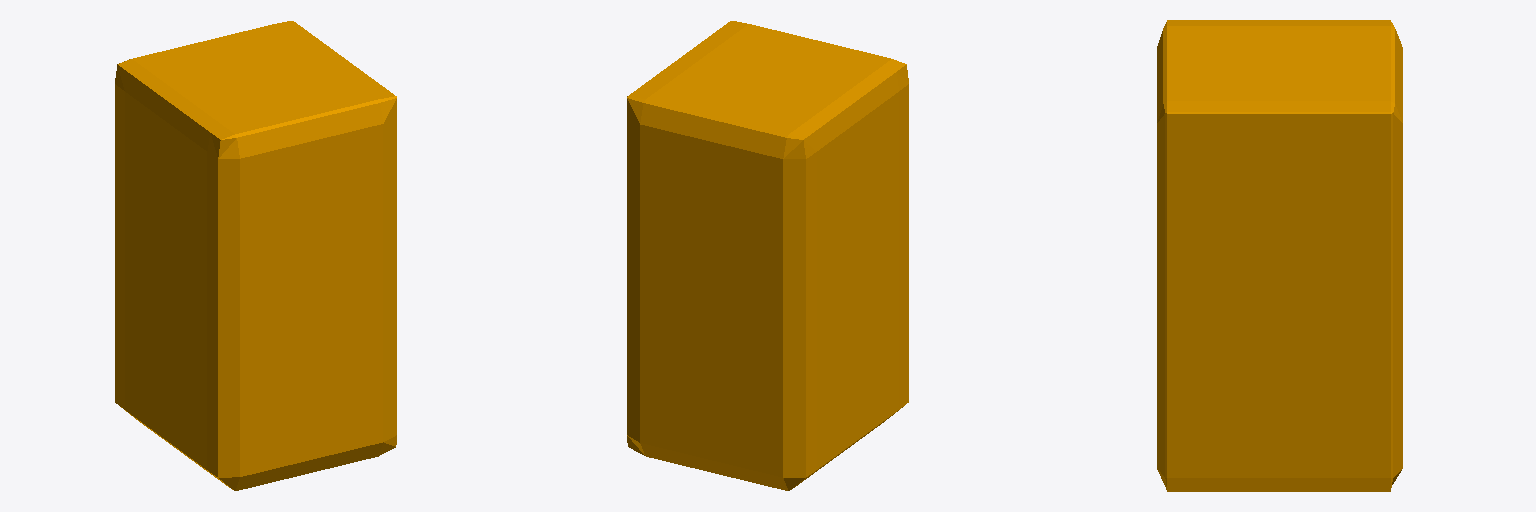
The robot description file, URDF, robot "cylinder_box_50":
<?xml version="1.0" encoding="utf-8"?>  <robot name="cylinder_box_50">   <link name="cylinder_box_50">     <visual>       <geometry>         <mesh filename="../meshes/box/box_50.stl" scale="1 1 1"/>       </geometry>     </visual>     <collision>       <geometry>         <mesh filename="../meshes/box/box_50.stl" scale="1 1 1"/>       </geometry>     </collision>     <inertial>        <origin         xyz="0 0 0"         rpy="0 0 0" />       <mass value="0.25919802949044984"/>       <origin rpy="0 0 0" xyz="0 0 0"/>       <inertia ixx="0.0002578727565935021" ixy="1.066138437196279e-08" ixz="2.258267825827865e-07" iyy="0.0002469212124097602" iyz="-9.147048073593226e-09" izz="0.0001172356990636331"/>     </inertial>   </link>  </robot>

--- Render facts (derived) ---
The picture shows the robot from 3 angles, left to right: view 1: azimuth 30°, elevation 25°; view 2: azimuth 150°, elevation 25°; view 3: azimuth 270°, elevation 25°; orthographic projection.
Robot: cylinder_box_50 — 1 links, 0 joints (none); root link cylinder_box_50; default pose: all joints at 0.
Links seen in each view (by area): view 1: cylinder_box_50; view 2: cylinder_box_50; view 3: cylinder_box_50.
Link boxes in pixels (x1,y1,x2,y2): cylinder_box_50: [115, 21, 396, 490]; cylinder_box_50: [627, 21, 908, 490]; cylinder_box_50: [1157, 20, 1402, 491].
Bounding box of the posed robot: 0.0501 × 0.0551 × 0.0954 m (x, y, z).
Meshes: 1 distinct files referenced, 1 mesh visuals loaded (1 binary STL).